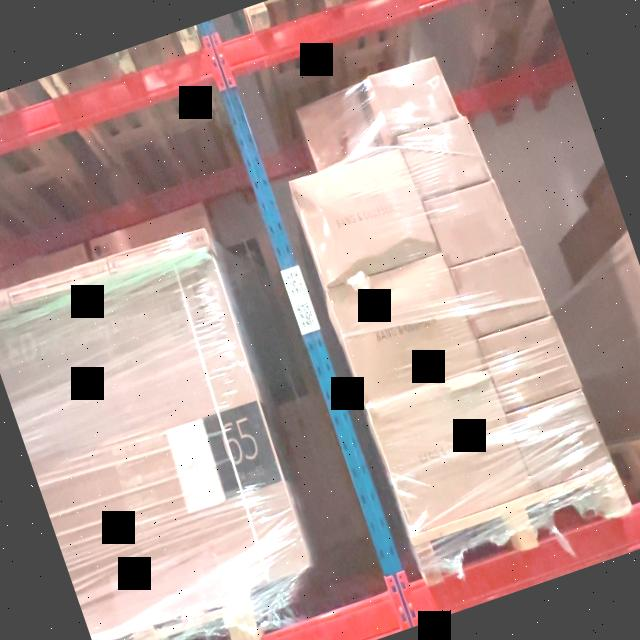box: (369, 368, 529, 532), (328, 250, 482, 406), (290, 144, 436, 288), (512, 389, 606, 488), (482, 316, 576, 409), (454, 246, 544, 335), (427, 180, 515, 265), (89, 200, 208, 260), (371, 54, 456, 137), (402, 117, 485, 196), (297, 90, 376, 169)
